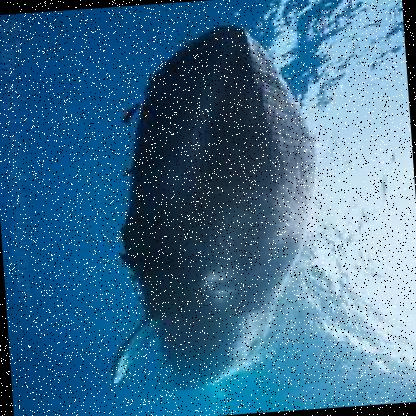blue_whale: (57, 7, 344, 415)
